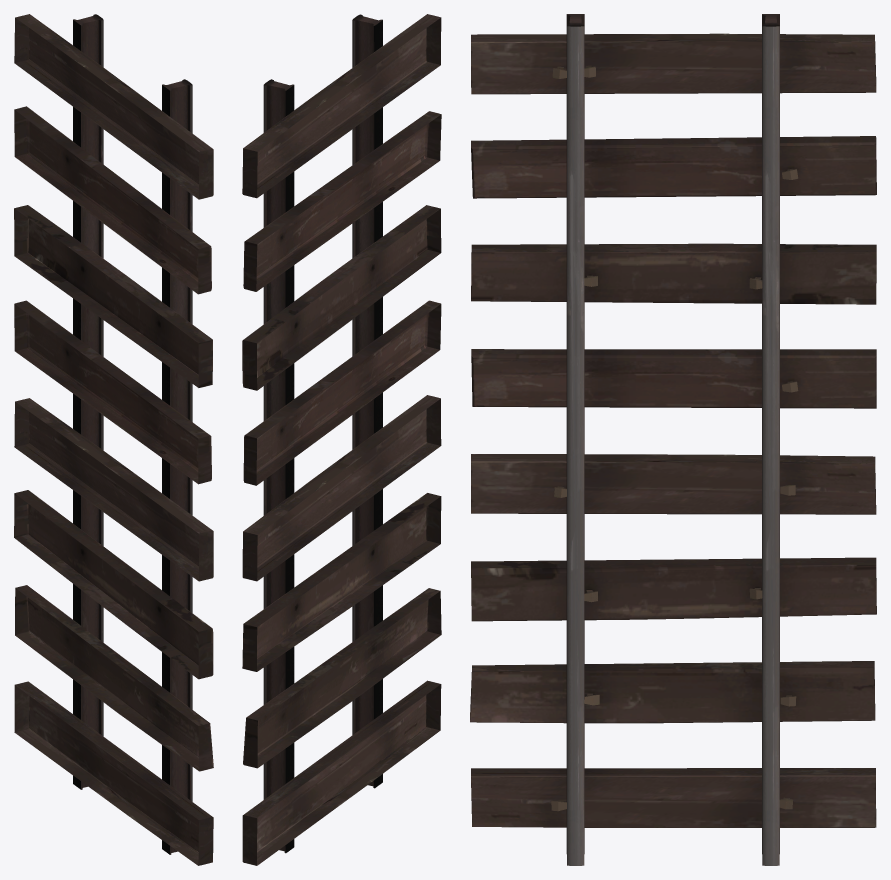
File: props_mining_track_straight_128.glb
3 renders of one model, left to right at view 1: azimuth 30°, elevation 25°; view 2: azimuth 150°, elevation 25°; view 3: azimuth 270°, elevation 25°, orthographic. The views are drawn at different scales.
Parts seen in each view (by area): view 1: models/props_mining/track_straight_128; view 2: models/props_mining/track_straight_128; view 3: models/props_mining/track_straight_128.
Boxes of the visible parts, bbox=[...] form: models/props_mining/track_straight_128: bbox=[14, 14, 213, 865]; models/props_mining/track_straight_128: bbox=[242, 14, 441, 865]; models/props_mining/track_straight_128: bbox=[470, 14, 876, 865].
Size of the model in its own units: 6.76 by 128 by 56.23.
1 material, 1 textured.
